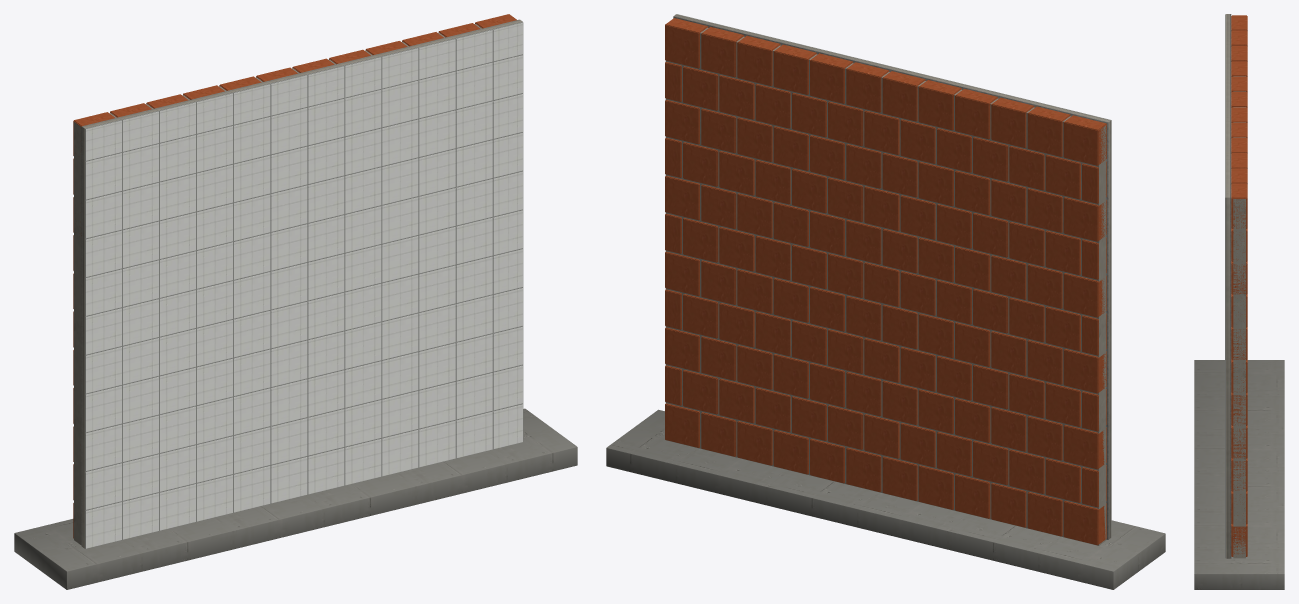
File: KIT-REV-04_lod1.glb
The picture shows the model from 3 angles, left to right: view 1: azimuth 30°, elevation 25°; view 2: azimuth 150°, elevation 25°; view 3: azimuth 270°, elevation 25°; orthographic projection. The views are drawn at different scales.
Visible parts, largest first — view 1: KIT-REV-04_base, KIT-REV-04_rejunte, KIT-REV-04_argamassa_juntas, KIT-REV-04_emboco, KIT-REV-04_p170, KIT-REV-04_p171, KIT-REV-04_p202, KIT-REV-04_p213, KIT-REV-04_p219, KIT-REV-04_p230, KIT-REV-04_p137, KIT-REV-04_p141 (+126 smaller); view 2: KIT-REV-04_base, KIT-REV-04_argamassa_juntas, KIT-REV-04_emboco, KIT-REV-04_chapisco, KIT-REV-04_p125, KIT-REV-04_p134, KIT-REV-04_p126, KIT-REV-04_p127, KIT-REV-04_p133, KIT-REV-04_p130, KIT-REV-04_p131, KIT-REV-04_p135 (+121 smaller); view 3: KIT-REV-04_base, KIT-REV-04_argamassa_juntas, KIT-REV-04_emboco, KIT-REV-04_chapisco, KIT-REV-04_p136, KIT-REV-04_colante, KIT-REV-04_rejunte, KIT-REV-04_p11, KIT-REV-04_p111, KIT-REV-04_p61, KIT-REV-04_p49, KIT-REV-04_p86 (+16 smaller).
Part boxes in pixels (x1,y1,x2,y2): KIT-REV-04_base: (14,408,577,589); KIT-REV-04_rejunte: (85,22,523,548); KIT-REV-04_argamassa_juntas: (74,24,481,545); KIT-REV-04_emboco: (82,20,521,547); KIT-REV-04_p170: (419,343,455,389); KIT-REV-04_p171: (456,334,492,380); KIT-REV-04_p202: (271,263,307,309); KIT-REV-04_p213: (234,233,270,279); KIT-REV-04_p219: (456,179,492,225); KIT-REV-04_p230: (419,149,455,195); KIT-REV-04_p137: (85,502,121,548); KIT-REV-04_p141: (234,466,270,512); KIT-REV-04_base: (606,409,1165,589); KIT-REV-04_argamassa_juntas: (665,27,1106,545); KIT-REV-04_emboco: (674,14,1110,539); KIT-REV-04_chapisco: (673,16,1108,539); KIT-REV-04_p125: (1063,115,1106,165); KIT-REV-04_p134: (737,35,780,86); KIT-REV-04_p126: (1027,106,1070,156); KIT-REV-04_p127: (991,97,1034,147); KIT-REV-04_p133: (773,44,816,94); KIT-REV-04_p130: (882,71,925,121); KIT-REV-04_p131: (846,62,889,112); KIT-REV-04_p135: (701,27,744,77); KIT-REV-04_base: (1194,360,1284,589); KIT-REV-04_argamassa_juntas: (1233,76,1245,558); KIT-REV-04_emboco: (1227,14,1230,558); KIT-REV-04_chapisco: (1230,14,1231,558); KIT-REV-04_p136: (1231,183,1247,228); KIT-REV-04_colante: (1226,14,1226,558); KIT-REV-04_rejunte: (1225,14,1225,558); KIT-REV-04_p11: (1231,524,1247,556); KIT-REV-04_p111: (1231,261,1247,294); KIT-REV-04_p61: (1231,392,1247,425); KIT-REV-04_p49: (1231,425,1247,458); KIT-REV-04_p86: (1231,327,1247,360).
Bounding box in the file's own units: 2.8 × 2.3 × 0.5001.
Materials: 6 (6 with a texture image).
